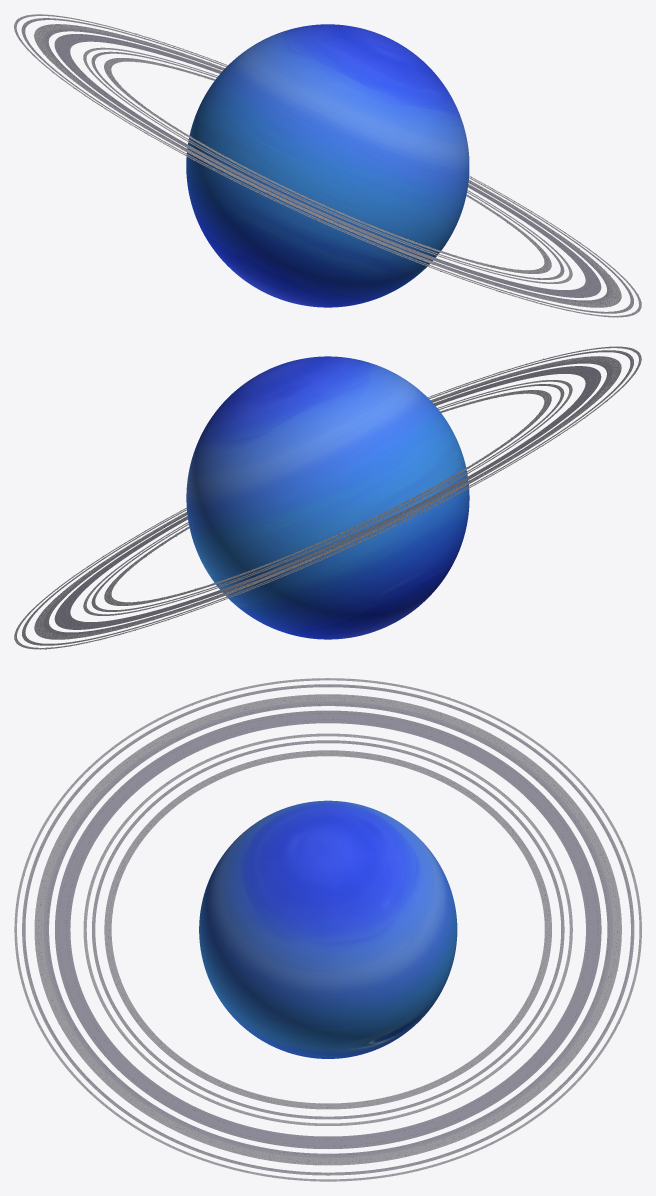
File: neptune.fbx
The picture shows the model from 3 angles, top to bottom: view 1: azimuth 30°, elevation 25°; view 2: azimuth 150°, elevation 25°; view 3: azimuth 270°, elevation 25°; orthographic projection. The views are drawn at different scales.
Visible parts, largest first — view 1: neptune1_A, neptune2_A; view 2: neptune1_A, neptune2_A; view 3: neptune2_A, neptune1_A.
Boxes of the visible parts, left/top/right/bottom form: neptune1_A: left=186, top=24, right=469, bottom=307; neptune2_A: left=14, top=14, right=641, bottom=317; neptune1_A: left=186, top=356, right=469, bottom=639; neptune2_A: left=14, top=346, right=641, bottom=649; neptune2_A: left=14, top=678, right=641, bottom=1181; neptune1_A: left=199, top=800, right=457, bottom=1058.
Bounding box in the file's own units: 103985 × 56171 × 118135.
